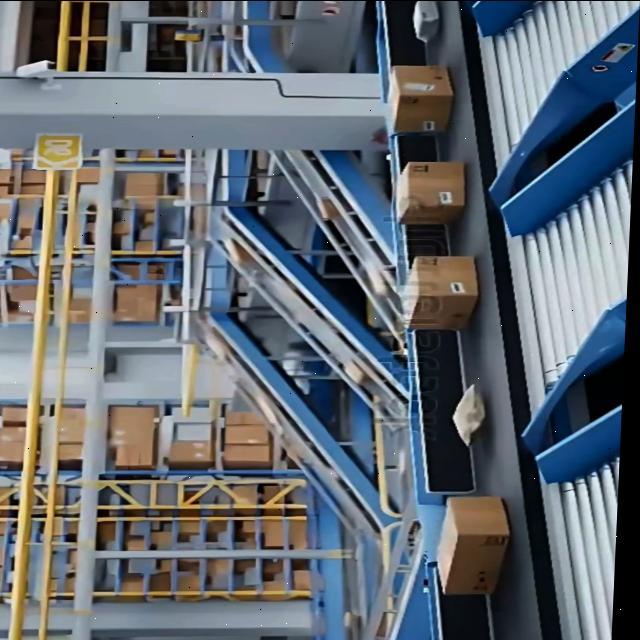product 1: (399, 254, 480, 330), (385, 64, 456, 132), (393, 160, 468, 223)
product 2: (445, 384, 490, 446)
